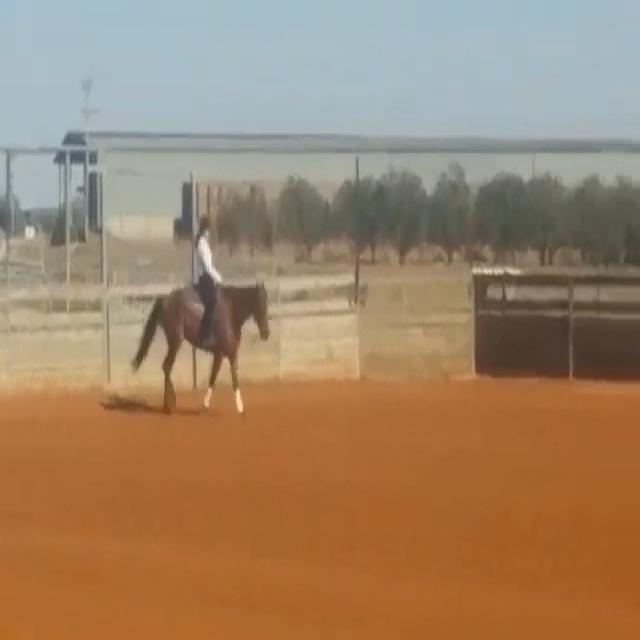horse: (129, 277, 272, 416)
